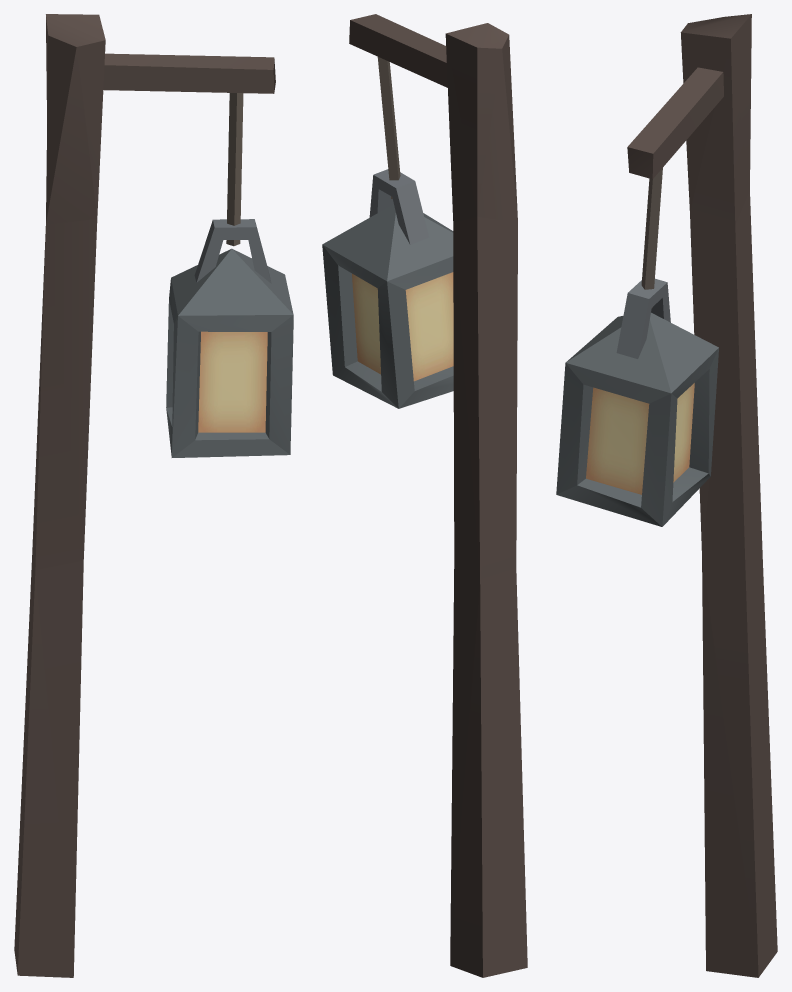
File: midnightLanternProp.fbx
The picture shows the model from 3 angles, left to right: view 1: azimuth 30°, elevation 25°; view 2: azimuth 150°, elevation 25°; view 3: azimuth 270°, elevation 25°; orthographic projection. The views are drawn at different scales.
Visible parts, largest first — view 1: midnightLanternProp, midnightLanternLamp; view 2: midnightLanternProp, midnightLanternLamp; view 3: midnightLanternProp, midnightLanternLamp.
Part boxes in pixels (x1,y1,x2,y2): midnightLanternProp: (14,14,275,977); midnightLanternLamp: (166,93,293,457); midnightLanternProp: (349,14,527,977); midnightLanternLamp: (322,57,453,408); midnightLanternProp: (627,14,777,977); midnightLanternLamp: (556,168,718,526).
Bounding box in the file's own units: 1.02 × 3.86 × 0.8111.
